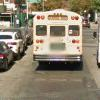Bus: (30, 9, 86, 74)
